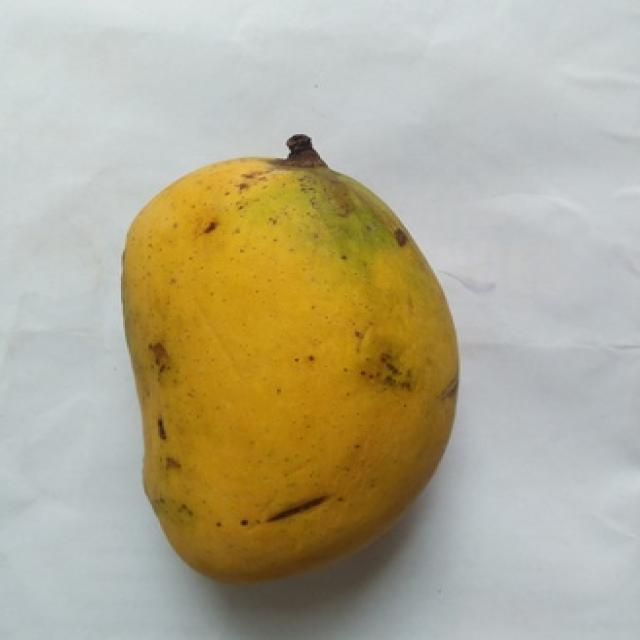Mango: (121, 137, 457, 579)
